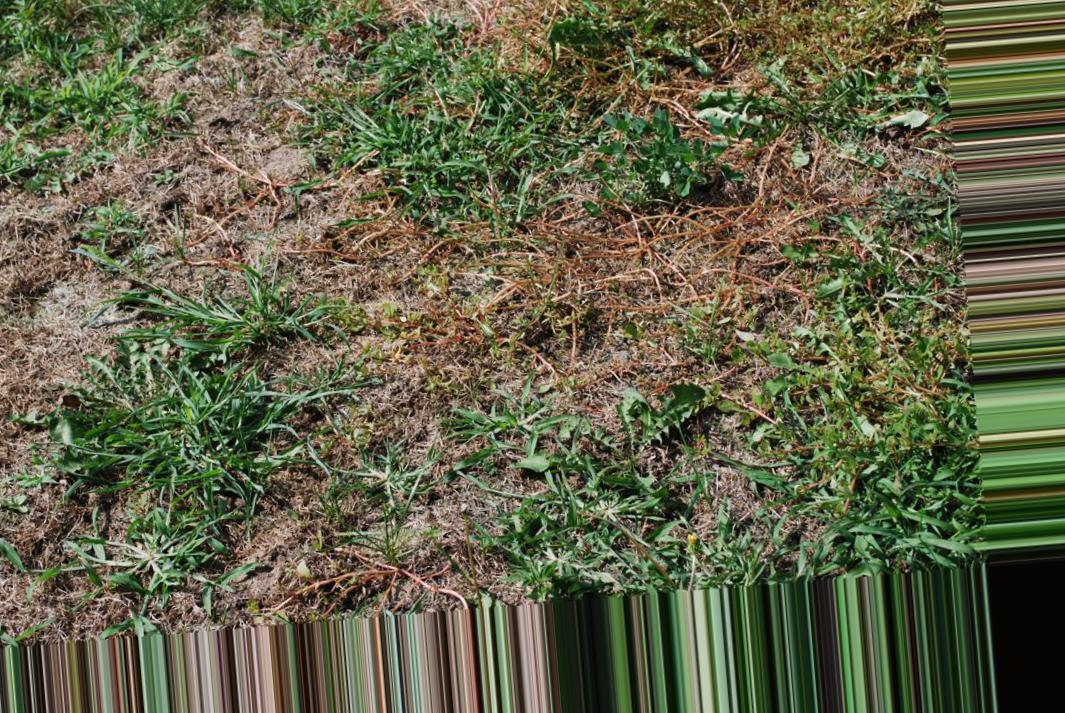patch: (417, 248, 763, 368), (319, 379, 498, 567), (175, 99, 354, 281), (13, 264, 99, 364), (427, 8, 559, 63)
